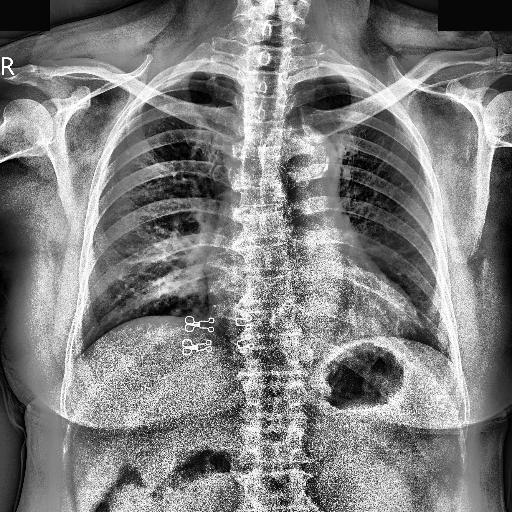0- Aortic enlargement: (271, 126, 340, 210), (276, 124, 336, 186), (276, 128, 334, 173)
3- Cardiomegaly: (205, 248, 419, 340), (206, 252, 422, 339), (204, 264, 417, 336)
8- Nodule-Mass: (124, 149, 132, 155)
